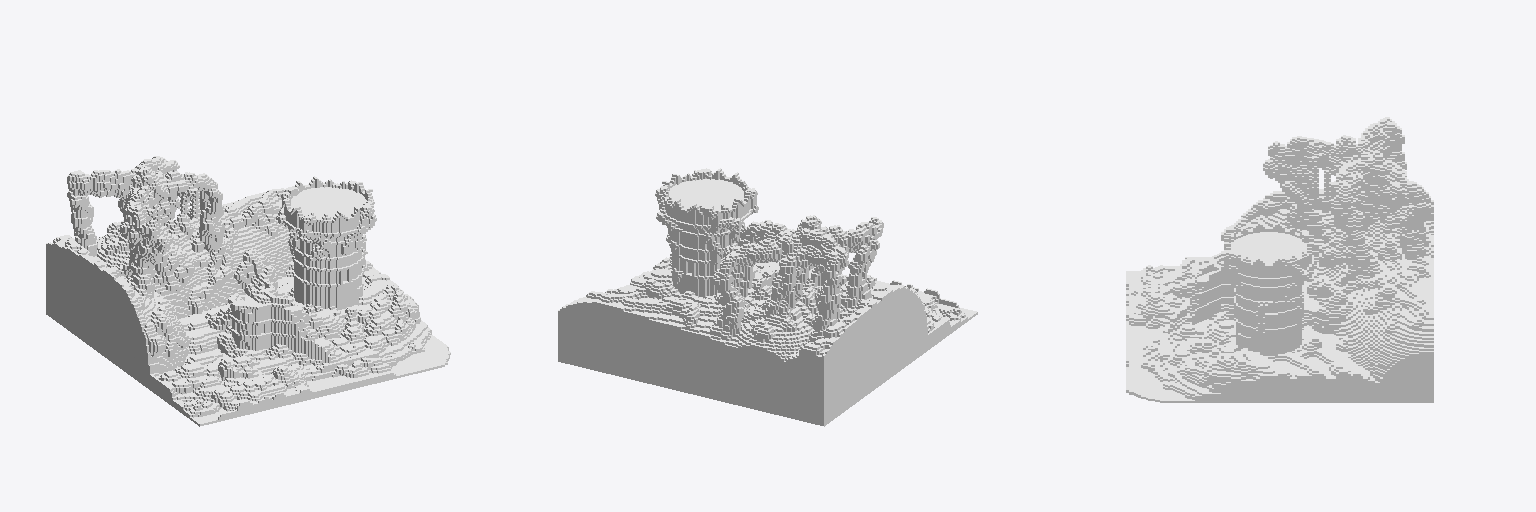
File: Border6.obj
3 views of the same model, side by side, from view 1: azimuth 30°, elevation 25°; view 2: azimuth 150°, elevation 25°; view 3: azimuth 270°, elevation 25° (orthographic).
Bounding box in the file's own units: 126 × 74 × 126.